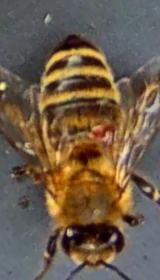varroa_mite: (76, 116, 123, 145)
